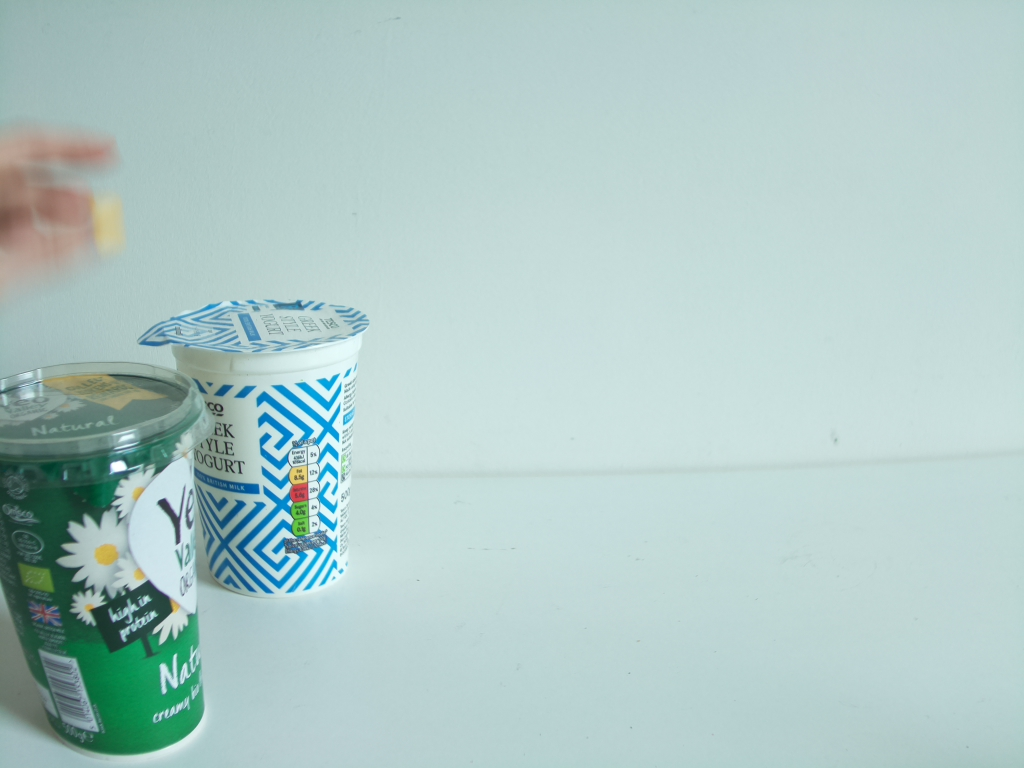yogurt: (1, 359, 215, 761), (136, 294, 380, 601)
